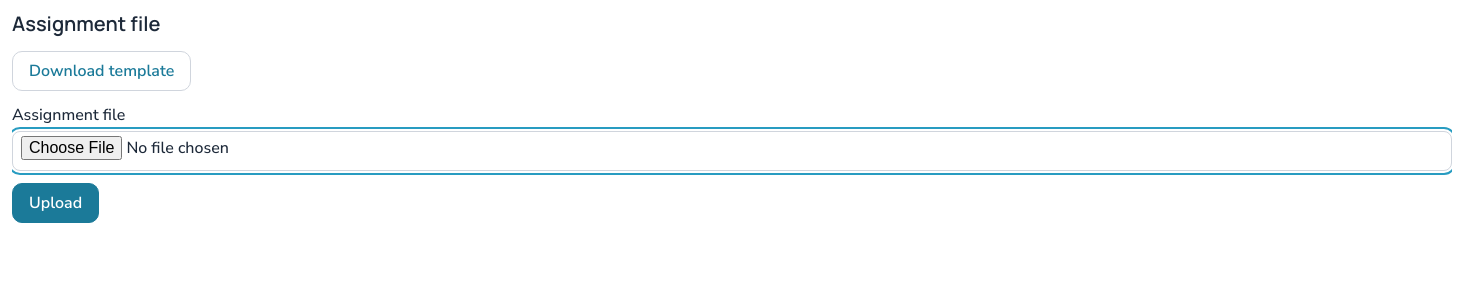
it: AssignmentFileUpload › says why an upload was refused for a missing permission or a file that is too large
Earlier steps of the test are not shown.
Later steps or results of the test are not shown.
Click the button "Upload" at (56, 203), box x1=12 y1=183 x2=99 y2=223
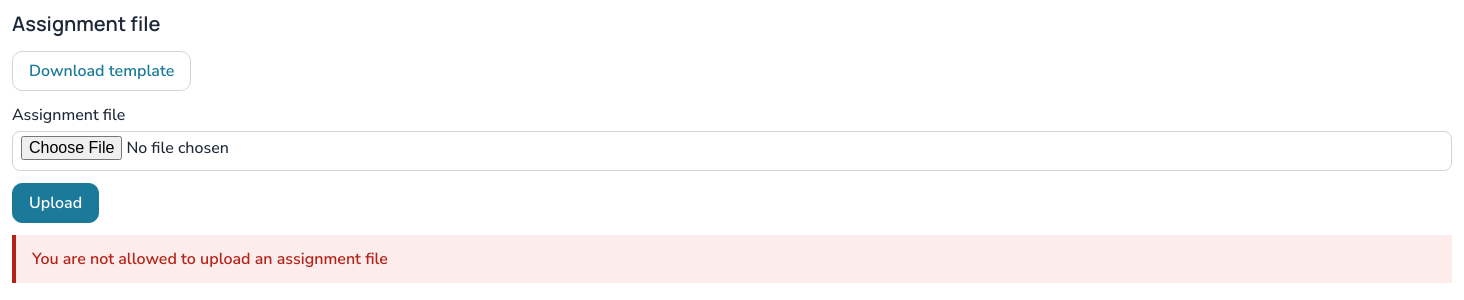
Check: the text "You are not allowed to upload an assignment file" is shown, box x1=12 y1=235 x2=1452 y2=283
